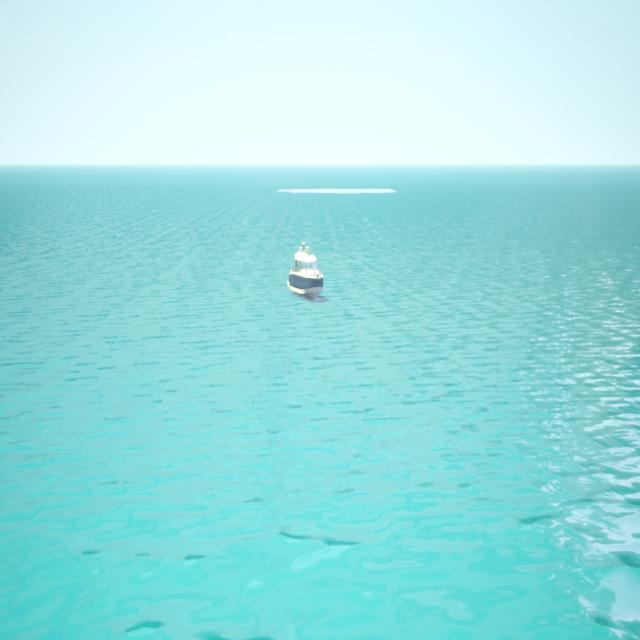ship: (288, 241, 326, 298)
